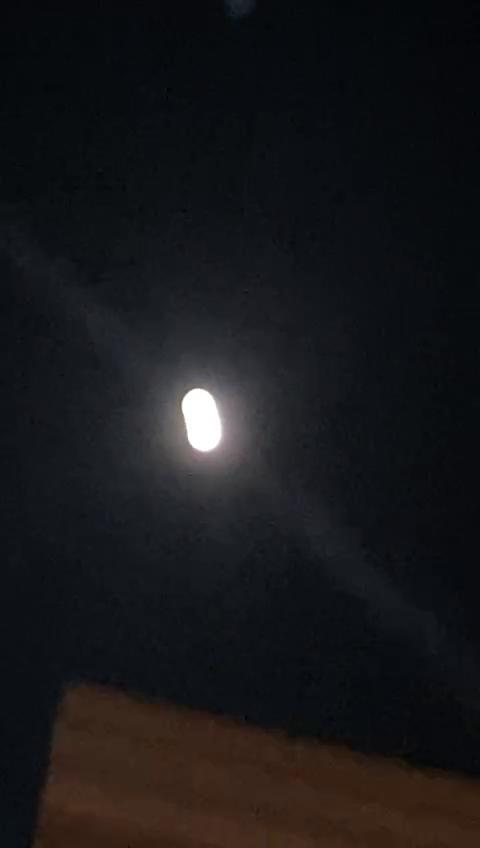moon: (167, 378, 234, 454)
